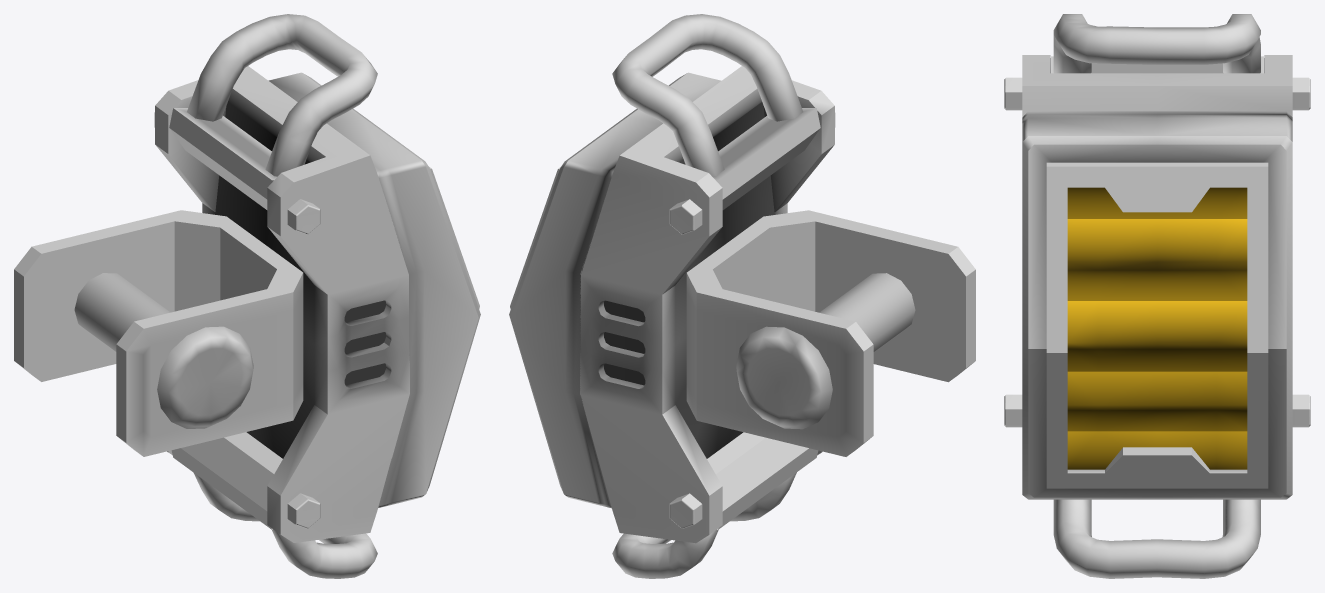
The model's file is env_mechanicallights_smalllightfixture.fbx.
3 renders of one model, left to right at view 1: azimuth 30°, elevation 25°; view 2: azimuth 150°, elevation 25°; view 3: azimuth 270°, elevation 25°, orthographic. The views are drawn at different scales.
Parts seen in each view (by area): view 1: Cube.002, Cube.003; view 2: Cube.002, Cube.003; view 3: Cube.002, Cube.001, Cube.003.
Part boxes in pixels (x1,y1,x2,y2): Cube.002: (14, 66, 480, 542); Cube.003: (187, 14, 377, 578); Cube.002: (509, 66, 975, 543); Cube.003: (612, 14, 803, 578); Cube.002: (1004, 55, 1310, 499); Cube.001: (1067, 187, 1247, 469); Cube.003: (1053, 14, 1260, 578).
Size of the model in its own units: 9.07 by 12.25 by 6.23.
